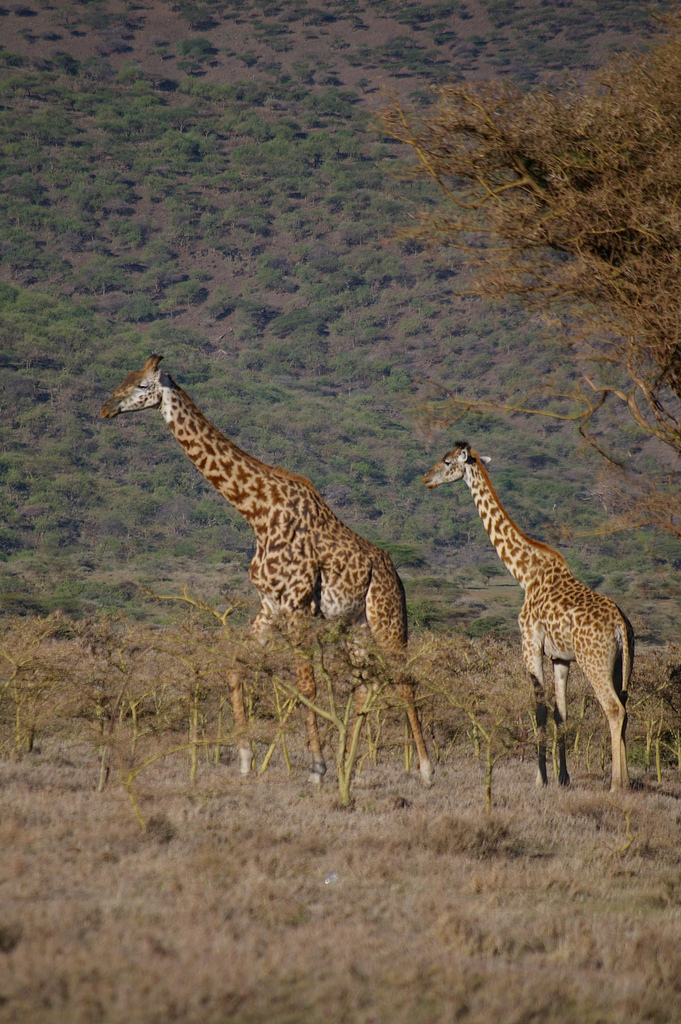giraffe: (120, 333, 422, 810), (415, 438, 663, 837)
